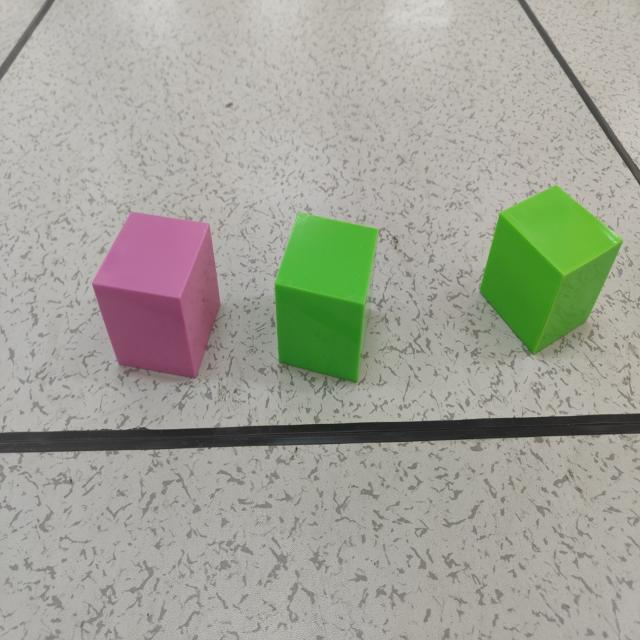green: (479, 187, 622, 357), (274, 213, 379, 383)
pink: (92, 213, 221, 381)
